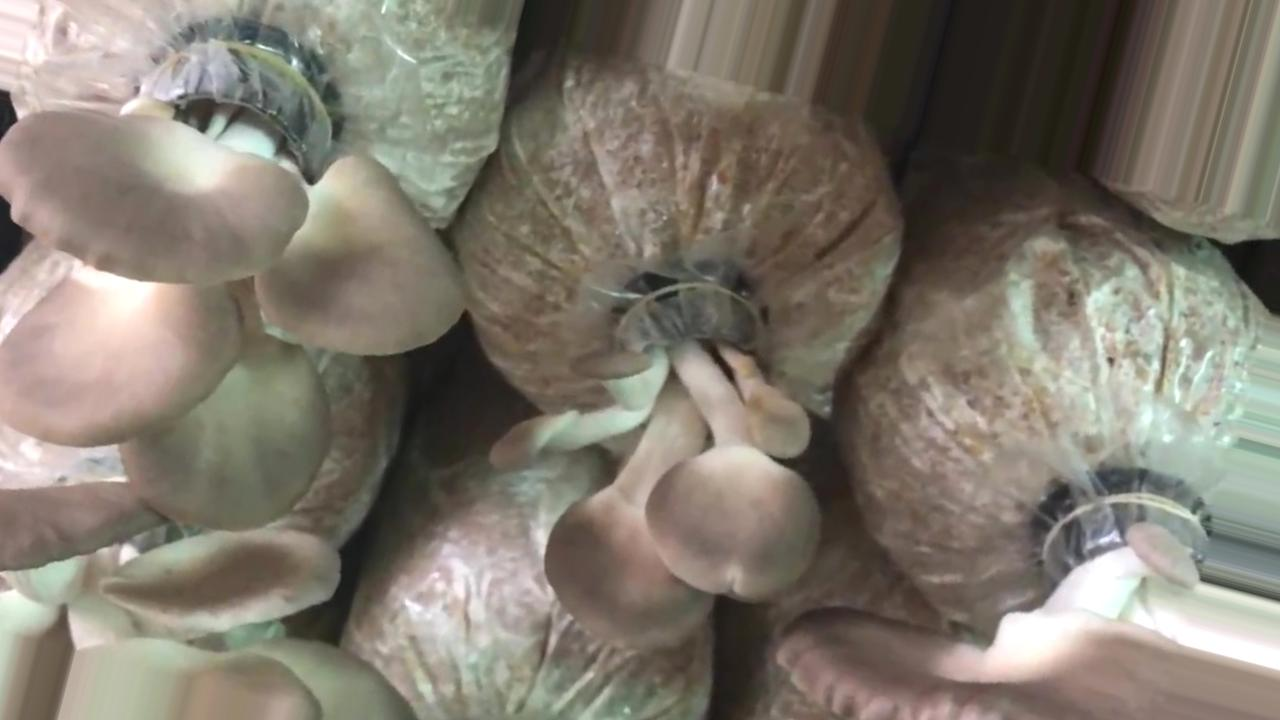nam: (1, 17, 470, 531), (491, 266, 823, 646), (780, 487, 1280, 717), (1, 481, 417, 718)
